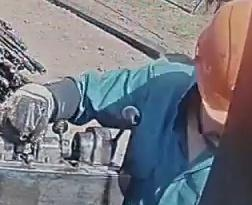gloves: (0, 81, 75, 145)
helmet: (192, 0, 252, 126)
